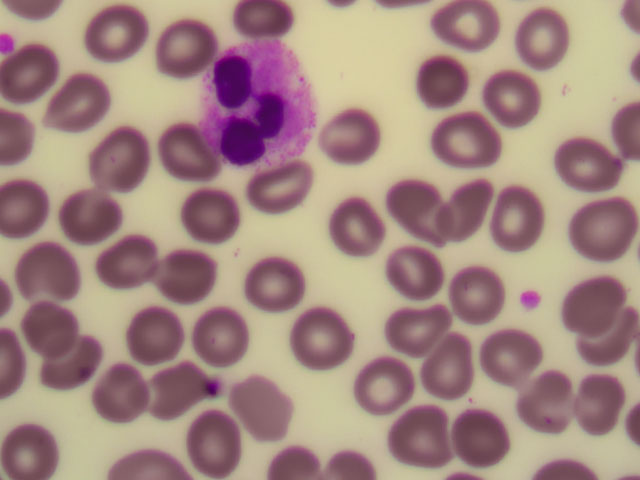Platelets: (518, 288, 540, 310), (2, 34, 15, 54)
RBC: (451, 409, 512, 466), (6, 428, 61, 480), (9, 49, 64, 100), (46, 78, 101, 129), (93, 7, 148, 58), (153, 23, 208, 74), (238, 2, 293, 53), (249, 160, 304, 211), (193, 193, 248, 244), (166, 131, 221, 182), (99, 129, 154, 180), (63, 192, 118, 243), (5, 184, 60, 235), (18, 246, 73, 297), (22, 298, 77, 349), (42, 341, 97, 392), (96, 374, 151, 425), (138, 369, 193, 420), (135, 320, 190, 371), (190, 322, 245, 373), (157, 253, 212, 304), (117, 236, 172, 287), (255, 258, 310, 309), (297, 314, 352, 365), (324, 209, 379, 260), (383, 192, 438, 243), (330, 114, 385, 165), (452, 125, 507, 176), (421, 63, 476, 114), (473, 68, 528, 119), (516, 13, 571, 64), (429, 9, 484, 60), (494, 194, 549, 245), (447, 182, 502, 233), (440, 268, 495, 319), (385, 244, 440, 295), (393, 308, 448, 359), (420, 345, 475, 396), (357, 355, 412, 406), (385, 409, 440, 460), (521, 376, 576, 427), (479, 331, 534, 382), (574, 375, 629, 426), (585, 315, 640, 366), (569, 274, 624, 325), (577, 209, 632, 260), (567, 142, 622, 193), (200, 416, 255, 467), (226, 381, 281, 432), (268, 446, 323, 480)
WBC: (195, 43, 316, 166)
